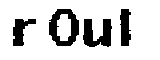0: (46, 6, 79, 49)
l: (118, 6, 136, 53)
r: (9, 16, 40, 48)
u: (82, 15, 115, 53)
